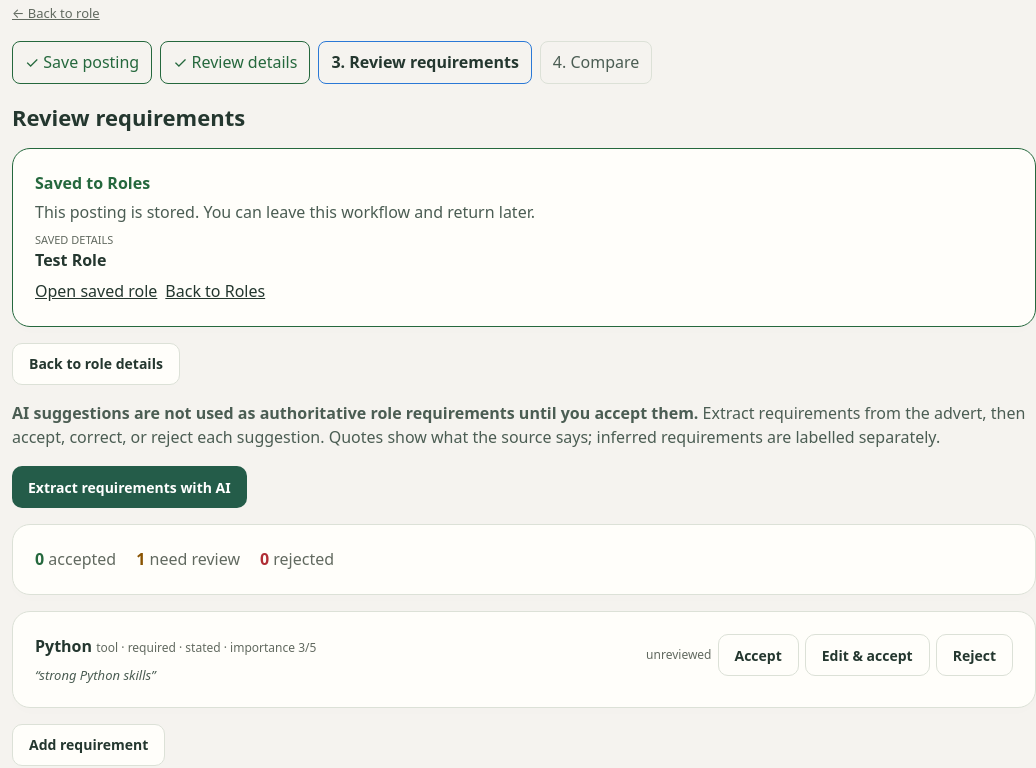
Test: unreviewed requirement row › accept and reject update the status summary counts
The width and height of the screenshot is (1036, 768).
Expected: the text "Python" is shown, [35,635,92,657]
Expected: the text "1" is shown, [136,548,145,570]
Click the button "Accept" at (758, 655), box [718,634,799,676]
(page scrolled)
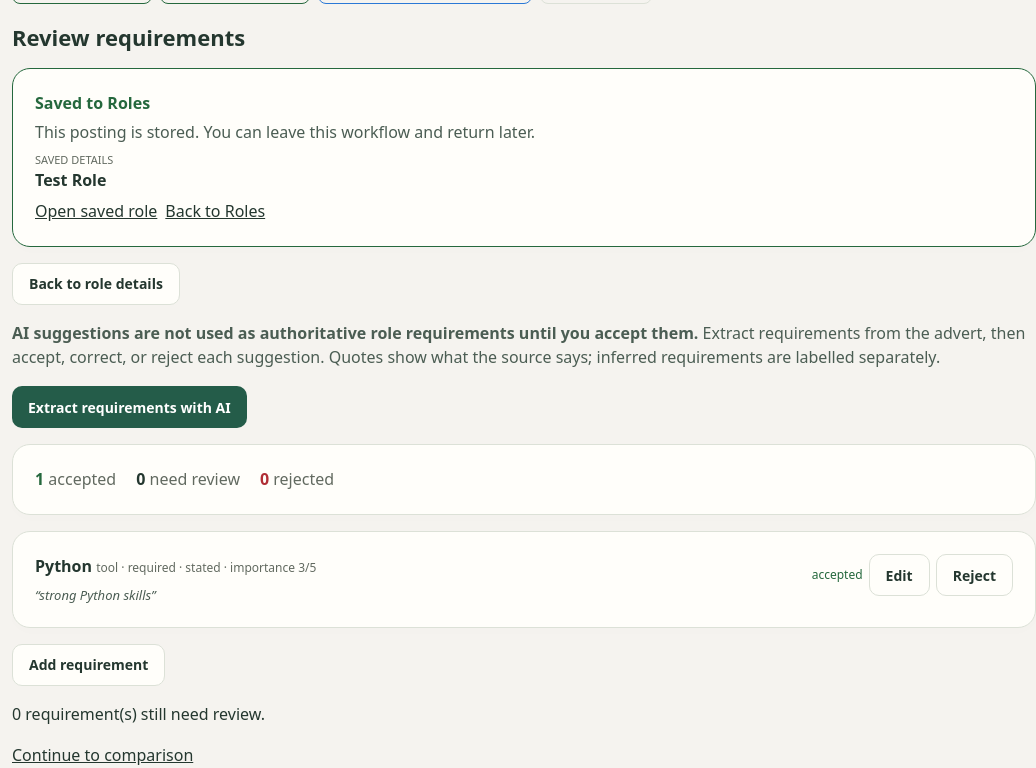
Expected: the text "accepted" is shown 2 times, [48,468,116,490]; [812,566,863,584]
Expected: the text "0 requirement(s) still need review." is shown, [12,703,265,725]
